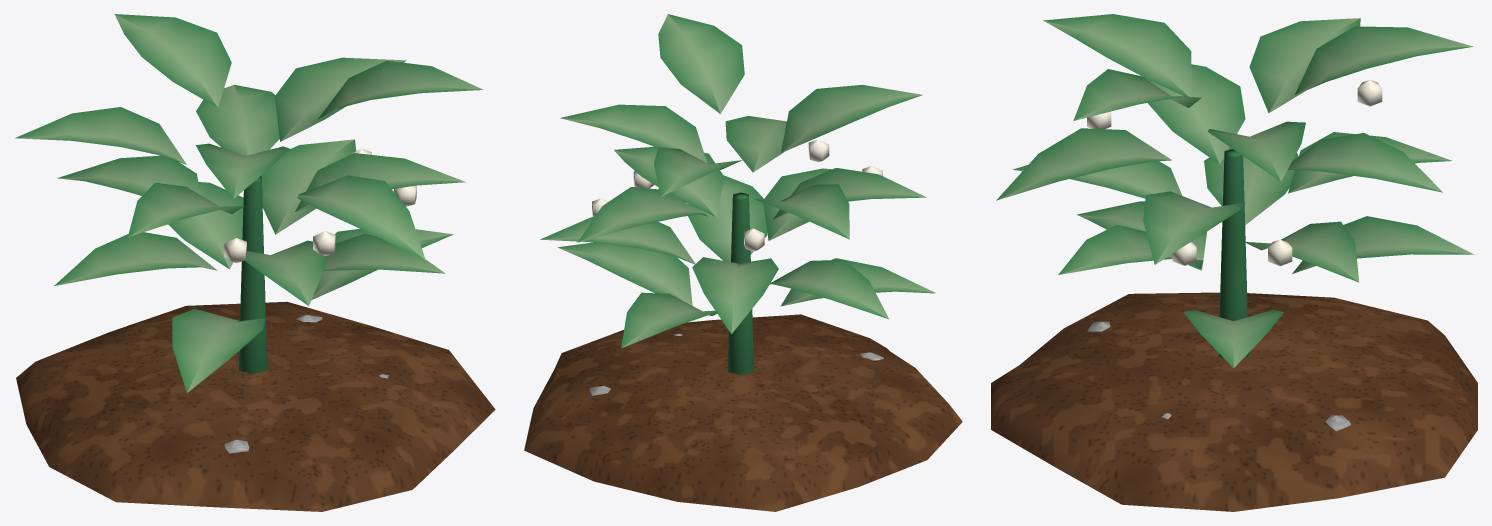
File: plant-blueberry-4.glb
3 views of the same model, side by side, from view 1: azimuth 30°, elevation 25°; view 2: azimuth 150°, elevation 25°; view 3: azimuth 270°, elevation 25° (orthographic). The views are drawn at different scales.
Parts seen in each view (by area): view 1: plant-blueberry-4; view 2: plant-blueberry-4; view 3: plant-blueberry-4.
Part boxes in pixels (<box>): plant-blueberry-4: <box>15,14,495,511</box>; plant-blueberry-4: <box>524,14,962,511</box>; plant-blueberry-4: <box>991,14,1477,511</box>.
Bounding box in the file's own units: 0.84 × 0.6903 × 0.8189.
Materials: 5 (2 with a texture image).
